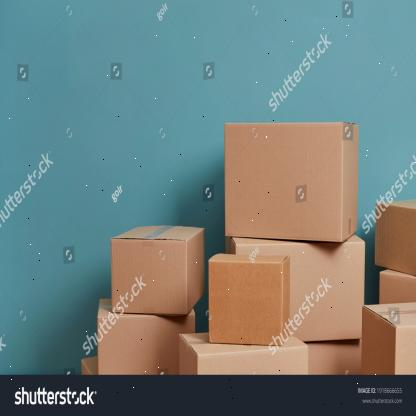box: (224, 122, 345, 244), (207, 260, 284, 346), (110, 238, 188, 315)
